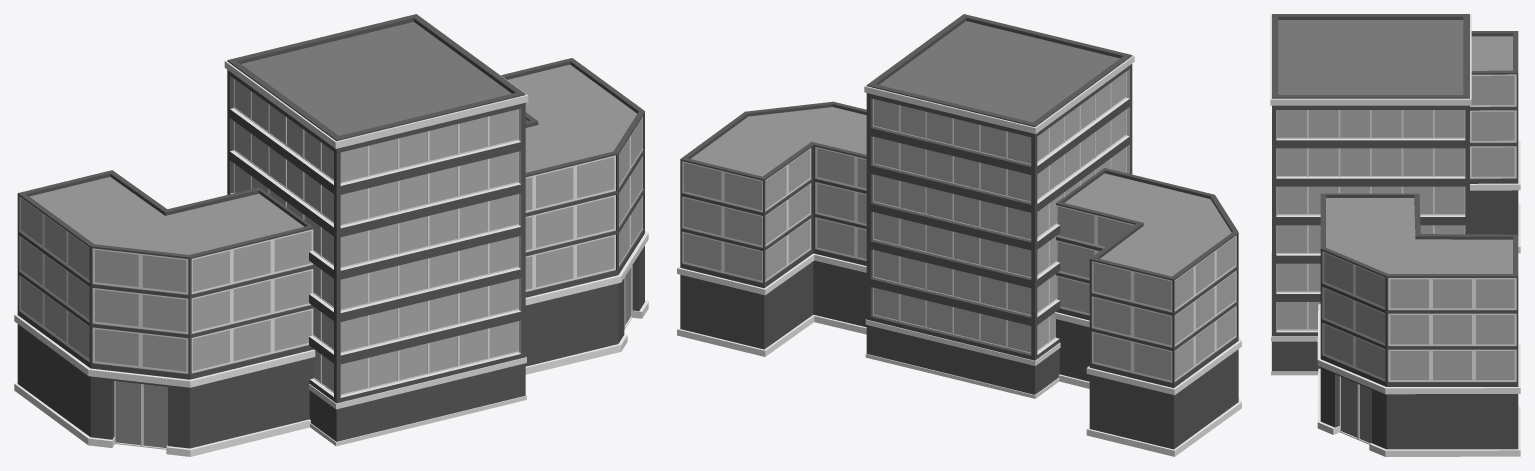
Rendered from SM_House_15_06.FBX.
3 views of the same model, side by side, from view 1: azimuth 30°, elevation 25°; view 2: azimuth 150°, elevation 25°; view 3: azimuth 270°, elevation 25° (orthographic). The views are drawn at different scales.
Parts seen in each view (by area): view 1: SM_House_15_06; view 2: SM_House_15_06; view 3: SM_House_15_06.
Boxes of the visible parts, x1,y1,x2,y2 form: SM_House_15_06: [14, 14, 648, 456]; SM_House_15_06: [677, 14, 1241, 456]; SM_House_15_06: [1270, 14, 1520, 456].
Bounding box in the file's own units: 17.78 × 9.28 × 7.6.
2 materials, 2 textured.
